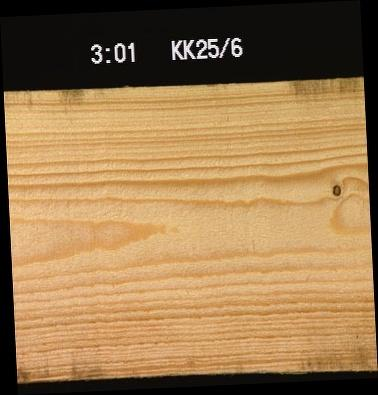dry_knot: (328, 180, 343, 198)
